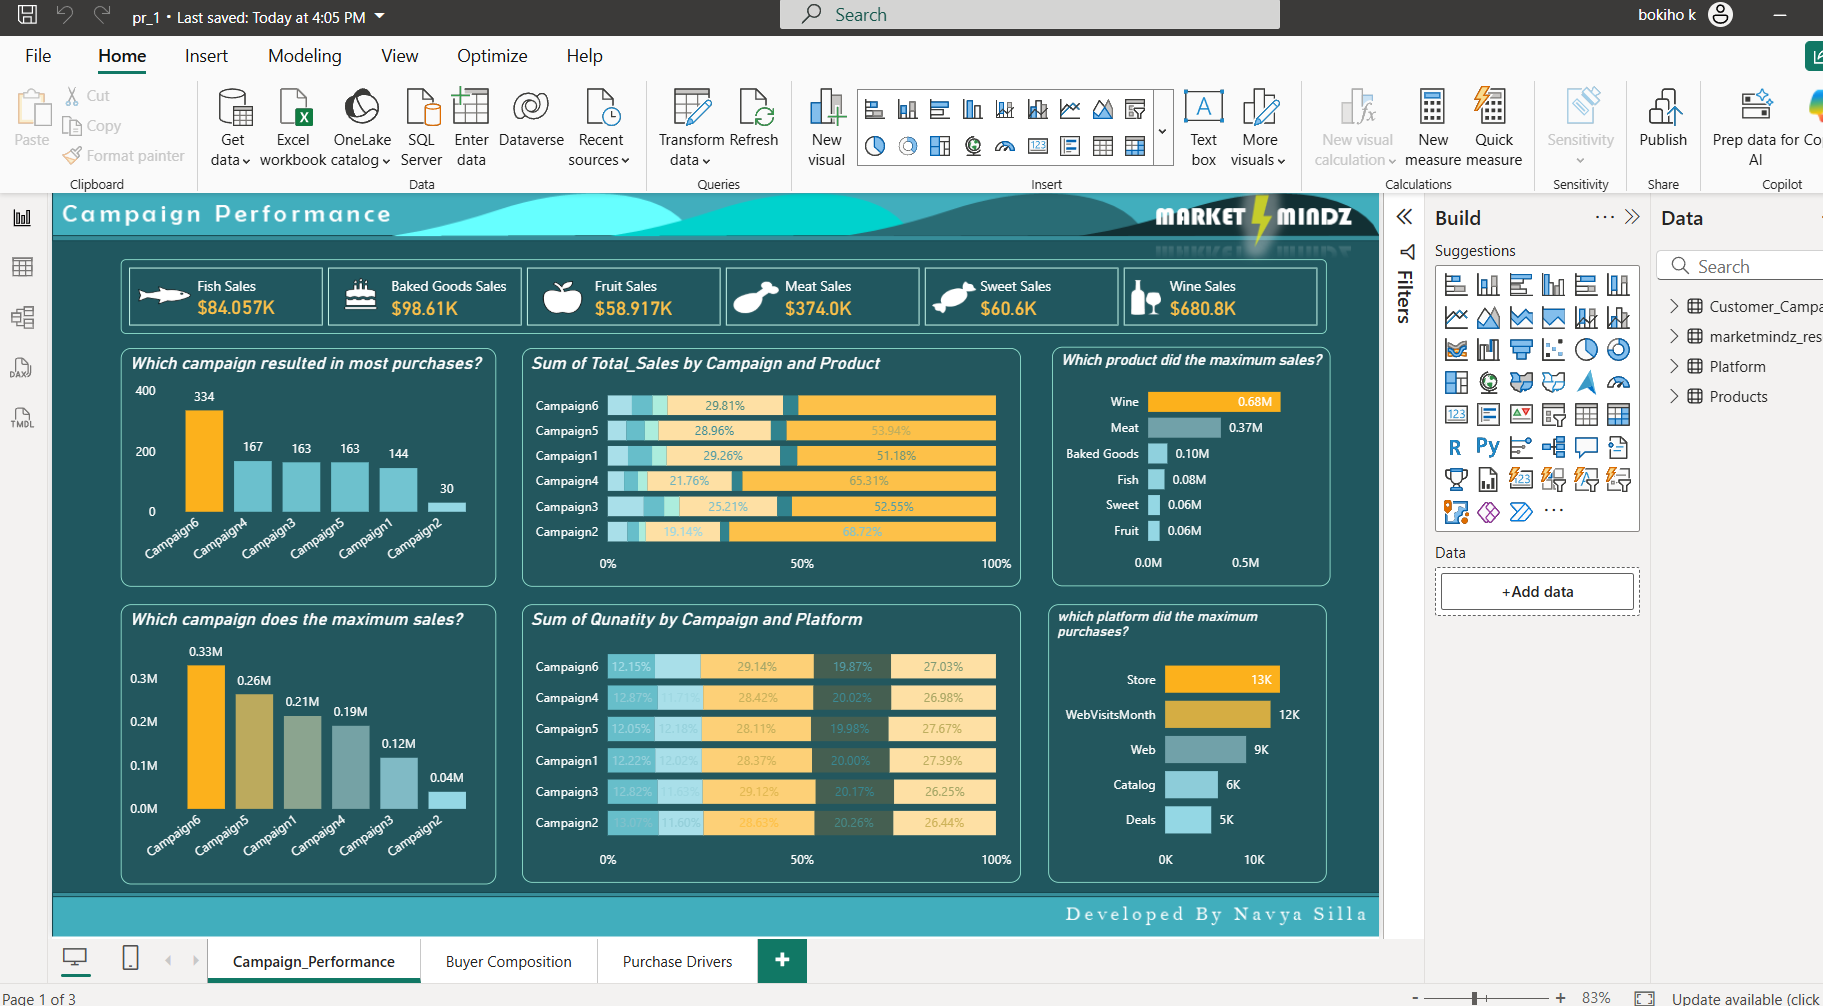

This screenshot's page, from the dashboard's own definition file:
{"tool":"powerbi","page":{"name":"Campaign_Performance","canvas":[1280,720],"ordinal":0},"visuals":[{"type":"clusteredColumnChart","title":"Which campaign resulted in most purchases?","fields":{"Category":["Customer_Campaign.Campaign"],"Y":["Sum(Customer_Campaign.Value)"]},"box":[66.8,149.4,362.1,230.3],"z":0},{"type":"clusteredColumnChart","title":"Which campaign does the maximum sales?","fields":{"Category":["Customer_Campaign.Campaign"],"Y":["Sum(Products.Total_Sales)"]},"box":[66.8,397.3,362.1,270.7],"z":1000},{"type":"hundredPercentStackedBarChart","fields":{"Category":["Customer_Campaign.Campaign"],"Y":["Sum(Products.Total_Sales)"],"Series":["Products.Product"]},"box":[453.5,149.4,481.6,230.3],"z":2000},{"type":"clusteredBarChart","title":"Which product did the maximum sales?","fields":{"Category":["Products.Product"],"Y":["Sum(Products.Total_Sales)"]},"box":[964.9,148.8,268.7,231.1],"z":3000},{"type":"hundredPercentStackedBarChart","fields":{"Y":["Sum(Platform.Qunatity)"],"Category":["Customer_Campaign.Campaign"],"Series":["Platform.Platform"]},"box":[453.5,397.3,481.6,268.9],"z":4000},{"type":"clusteredBarChart","title":"which platform did the maximum purchases?","fields":{"Category":["Platform.Platform"],"Y":["Sum(Platform.Qunatity)"]},"box":[961.5,397.3,268.9,268.9],"z":5000},{"type":"cardVisual","fields":{"Data":["Sum(marketmindz_research_data.Amount_Fish_Products)","Sum(marketmindz_research_data.Amount_Baked_products)","Sum(marketmindz_research_data.Amount_Fruit_Products)","Sum(marketmindz_research_data.Amount_Meat_Products)","Sum(marketmindz_research_data.Amount_Sweet_products)","Sum(marketmindz_research_data.Amount_Wine_Products)"]},"box":[66.4,63.5,1164.3,72.1],"z":6000}]}

Visuals, with their boxes on the page's 1280x720 design canvas (x1, y1, x2, y2). These are canvas units, not pixel positions in the 1823x1006 screenshot, which may show the page scaled, cropped or inside an application window:
"Which campaign resulted in most purchases?" clusteredColumnChart: (x1=67, y1=149, x2=429, y2=380)
"Which campaign does the maximum sales?" clusteredColumnChart: (x1=67, y1=397, x2=429, y2=668)
hundredPercentStackedBarChart - Customer_Campaign.Campaign x Sum(Products.Total_Sales): (x1=454, y1=149, x2=935, y2=380)
"Which product did the maximum sales?" clusteredBarChart: (x1=965, y1=149, x2=1234, y2=380)
hundredPercentStackedBarChart - Sum(Platform.Qunatity) x Customer_Campaign.Campaign: (x1=454, y1=397, x2=935, y2=666)
"which platform did the maximum purchases?" clusteredBarChart: (x1=962, y1=397, x2=1230, y2=666)
cardVisual - Sum(marketmindz_research_data.Amount_Fish_Products) x Sum(marketmindz_research_data.Amount_Baked_products): (x1=66, y1=64, x2=1231, y2=136)
